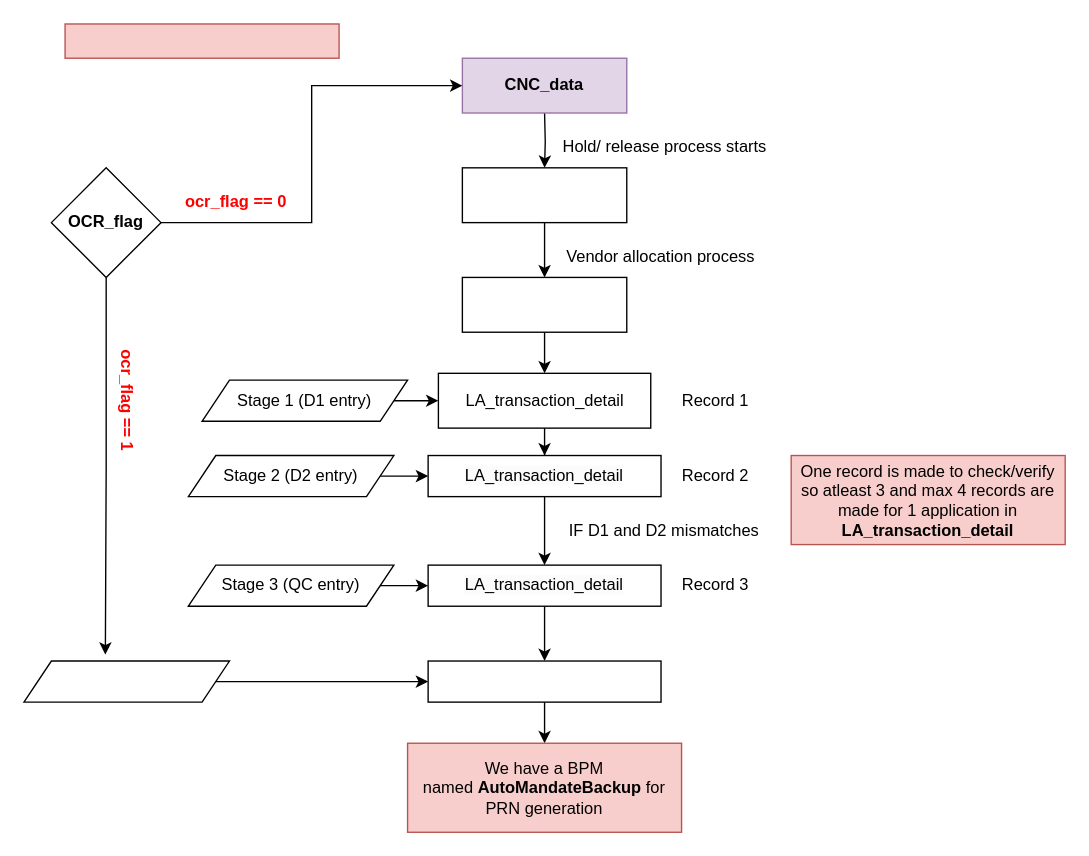
Image size: 1089x856. Some labels were removed from this diagram. Each missing label, with the centre of its shape:
"Data Flow In Tables" belongs at (x=201, y=40).
"Hold_source_detail" belongs at (x=544, y=194).
"LA_pool" belongs at (x=544, y=304).
"PRN creation" belongs at (x=544, y=681).
"Stage 4" belongs at (x=126, y=681).
